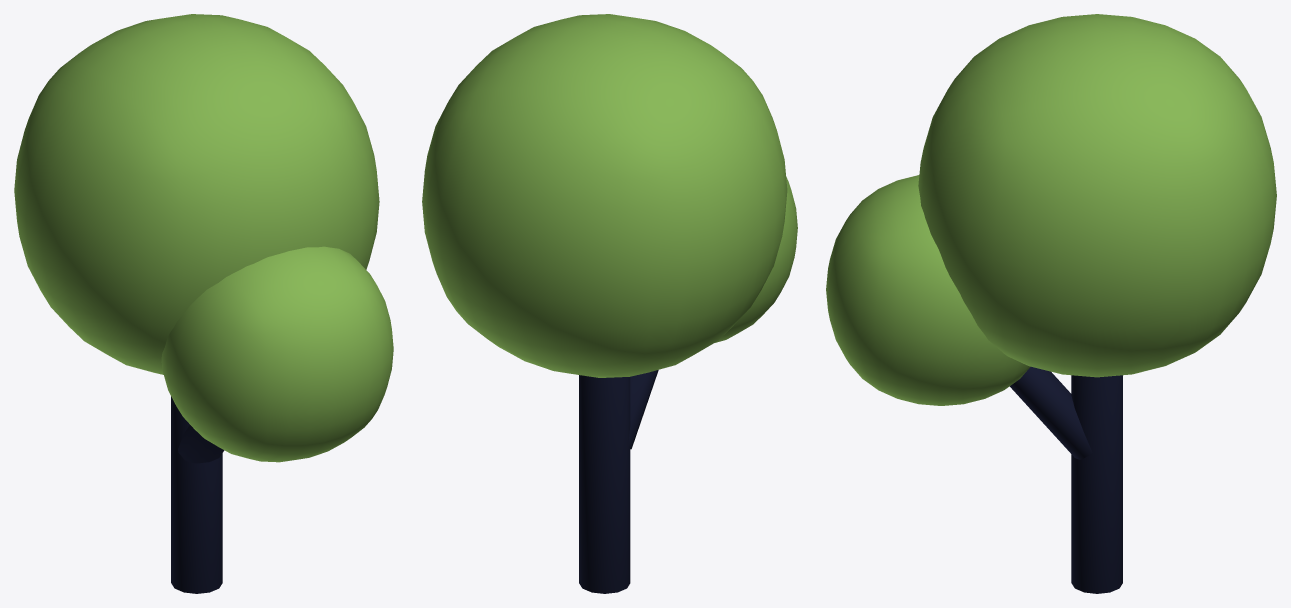
File: arbre-fancy-ete.gltf
The picture shows the model from 3 angles, left to right: view 1: azimuth 30°, elevation 25°; view 2: azimuth 150°, elevation 25°; view 3: azimuth 270°, elevation 25°; orthographic projection.
Parts seen in each view (by area): view 1: Cube.001, Cube.003, Cylinder.004, Cylinder.005; view 2: Cube.001, Cylinder.004, Cube.003, Cylinder.005; view 3: Cube.001, Cube.003, Cylinder.004, Cylinder.005.
Part boxes in pixels (left/top/right/bottom): Cube.001: left=14, top=14, right=379, bottom=374; Cube.003: left=161, top=246, right=393, bottom=462; Cylinder.004: left=171, top=396, right=222, bottom=593; Cylinder.005: left=178, top=425, right=224, bottom=463; Cube.001: left=422, top=14, right=787, bottom=377; Cylinder.004: left=579, top=375, right=630, bottom=593; Cube.003: left=715, top=177, right=797, bottom=342; Cylinder.005: left=628, top=370, right=658, bottom=449; Cube.001: left=918, top=14, right=1276, bottom=377; Cube.003: left=826, top=175, right=1030, bottom=405; Cylinder.004: left=1071, top=375, right=1122, bottom=593; Cylinder.005: left=1010, top=366, right=1092, bottom=459.
Size of the model in its own units: 1.31 by 2.22 by 1.65.
